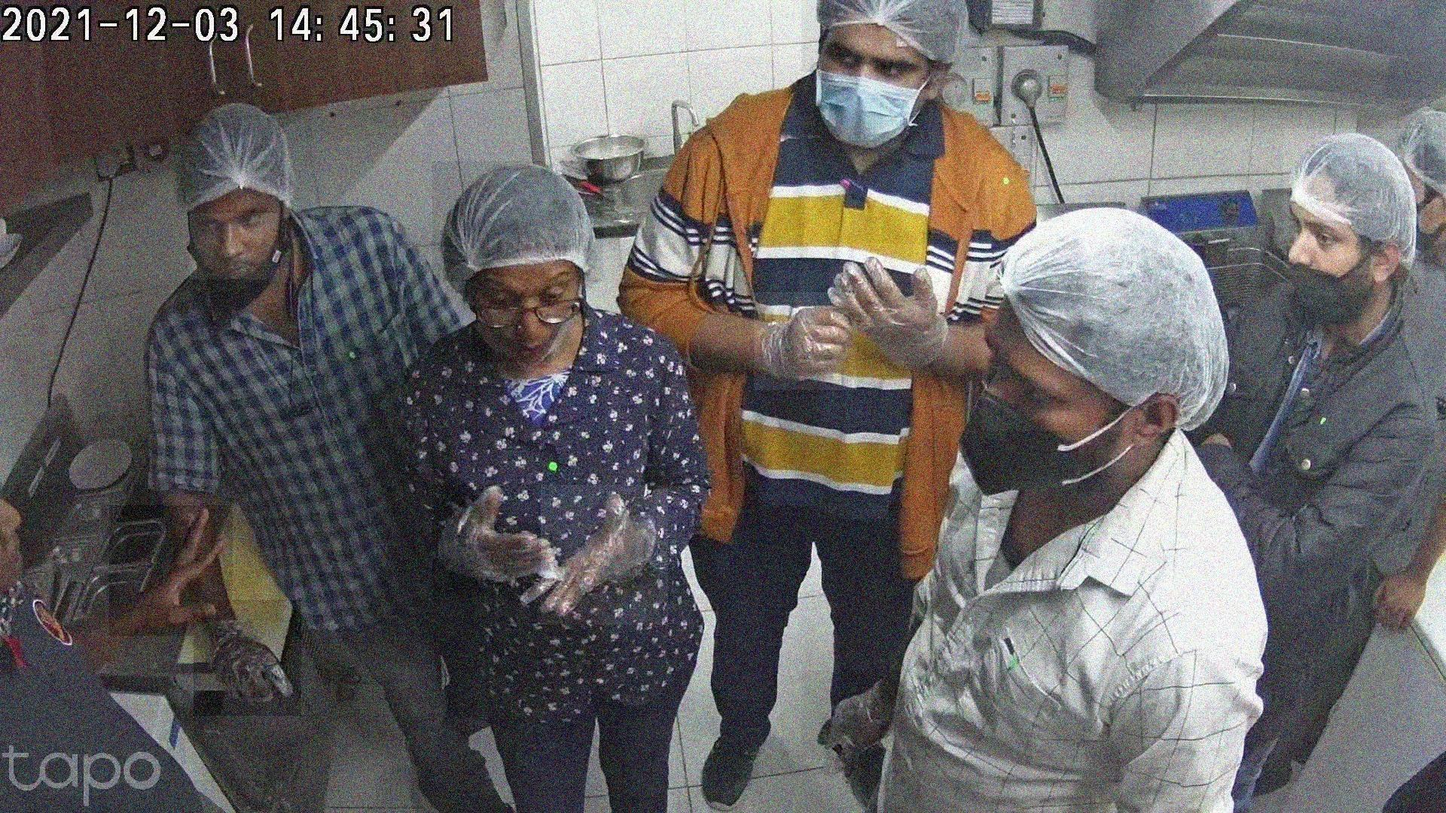apron: (541, 485, 668, 625), (433, 485, 556, 596), (194, 601, 302, 717)
gloves: (982, 184, 1239, 431), (432, 161, 603, 282), (1284, 129, 1425, 275), (177, 93, 312, 213), (801, 0, 981, 72), (1396, 108, 1446, 219)
mask: (961, 359, 1097, 481), (815, 47, 929, 142)
no_apron: (830, 244, 964, 375), (110, 505, 233, 636), (801, 671, 916, 760), (754, 292, 857, 390), (1364, 560, 1446, 641)
no_hairnet: (471, 263, 583, 362), (190, 187, 279, 279), (1285, 207, 1363, 291), (0, 485, 42, 636)
